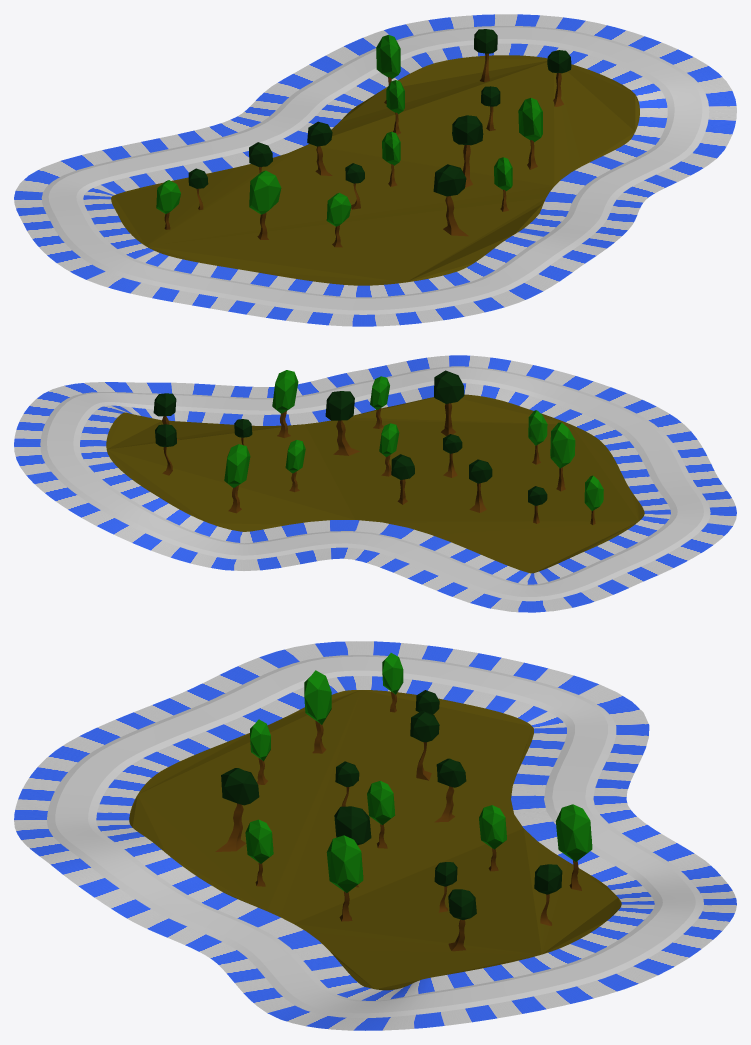
Rendered from FunnyRoad.FBX.
The picture shows the model from 3 angles, top to bottom: view 1: azimuth 30°, elevation 25°; view 2: azimuth 150°, elevation 25°; view 3: azimuth 270°, elevation 25°; orthographic projection. The views are drawn at different scales.
Visible parts, largest first — view 1: Loft001, GeoSphere005, GeoSphere003, GeoSphere012, GeoSphere016, GeoSphere009, GeoSphere006, GeoSphere007, GeoSphere014, GeoSphere001, GeoSphere008, GeoSphere017 (+3 smaller); view 2: Loft001, GeoSphere012, GeoSphere005, GeoSphere009, GeoSphere016, GeoSphere003, GeoSphere002, GeoSphere007, GeoSphere017, GeoSphere006, GeoSphere011, GeoSphere015 (+4 smaller); view 3: Loft001, GeoSphere016, GeoSphere009, GeoSphere005, GeoSphere003, GeoSphere017, GeoSphere012, GeoSphere015, GeoSphere011, GeoSphere001, GeoSphere007, GeoSphere002 (+3 smaller).
Part boxes in pixels (bbox=[...]): Loft001: bbox=[14, 14, 736, 326]; GeoSphere005: bbox=[433, 164, 468, 236]; GeoSphere003: bbox=[249, 170, 281, 239]; GeoSphere012: bbox=[452, 115, 483, 187]; GeoSphere016: bbox=[518, 98, 542, 169]; GeoSphere009: bbox=[376, 35, 400, 103]; GeoSphere006: bbox=[326, 192, 351, 247]; GeoSphere007: bbox=[307, 121, 332, 175]; GeoSphere014: bbox=[156, 180, 180, 229]; GeoSphere001: bbox=[547, 50, 571, 106]; GeoSphere008: bbox=[474, 29, 497, 82]; GeoSphere017: bbox=[382, 131, 400, 186]; Loft001: bbox=[14, 355, 736, 612]; GeoSphere012: bbox=[325, 391, 359, 455]; GeoSphere005: bbox=[434, 370, 464, 435]; GeoSphere009: bbox=[224, 444, 250, 513]; GeoSphere016: bbox=[272, 370, 298, 437]; GeoSphere003: bbox=[550, 422, 575, 491]; GeoSphere002: bbox=[469, 459, 492, 512]; GeoSphere007: bbox=[391, 454, 414, 504]; GeoSphere017: bbox=[379, 423, 399, 476]; GeoSphere006: bbox=[528, 410, 547, 464]; GeoSphere011: bbox=[285, 440, 305, 492]; GeoSphere015: bbox=[370, 376, 389, 428]; Loft001: bbox=[14, 641, 736, 1030]; GeoSphere016: bbox=[326, 835, 363, 921]; GeoSphere009: bbox=[555, 804, 592, 890]; GeoSphere005: bbox=[215, 768, 259, 851]; GeoSphere003: bbox=[304, 670, 331, 753]; GeoSphere017: bbox=[367, 781, 395, 848]; GeoSphere012: bbox=[334, 806, 371, 887]; GeoSphere015: bbox=[245, 819, 273, 886]; GeoSphere011: bbox=[479, 805, 506, 871]; GeoSphere001: bbox=[448, 889, 476, 951]; GeoSphere007: bbox=[434, 758, 466, 822]; GeoSphere002: bbox=[410, 711, 439, 780].
Bounding box in the file's own units: 114 × 87.88 × 12.61.
